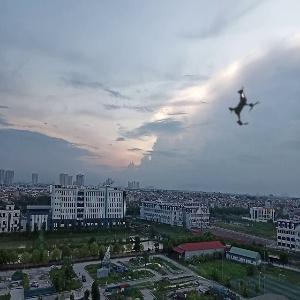drone: (213, 76, 277, 140)
